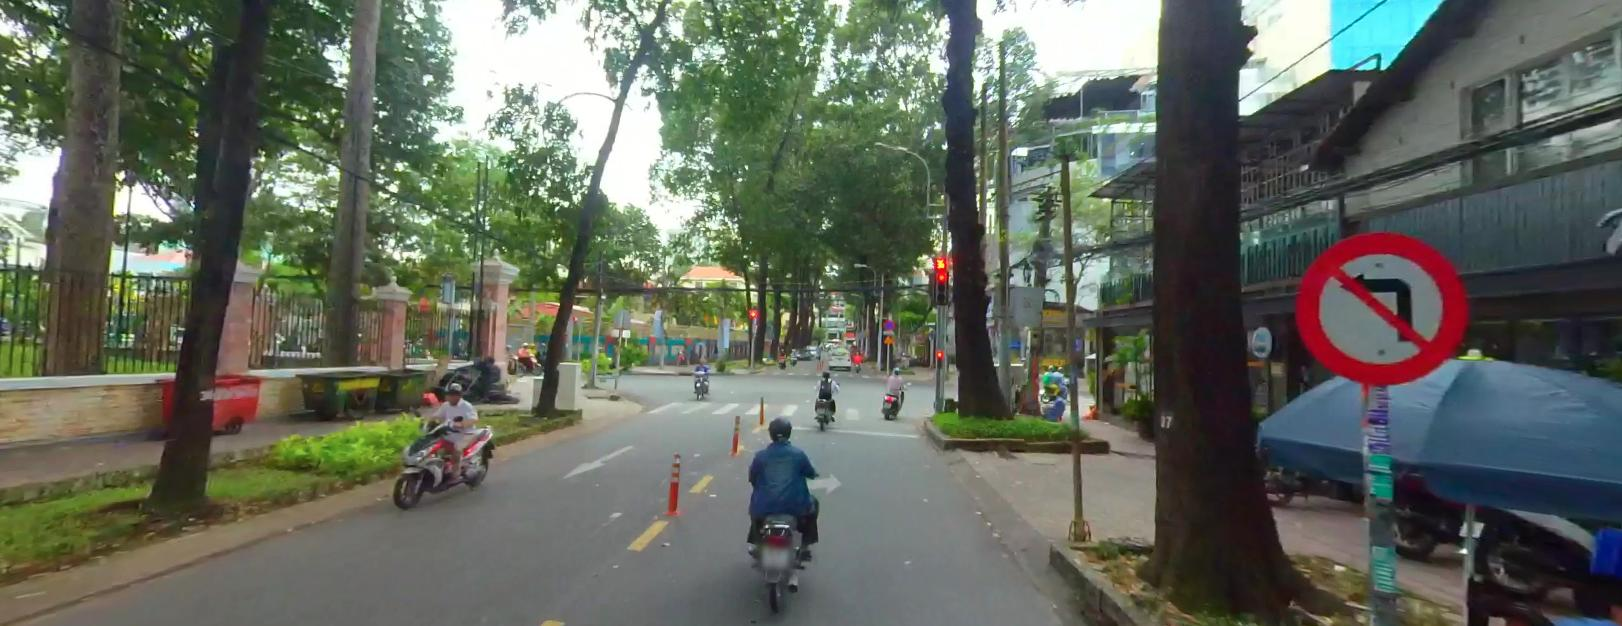Cam dung va do: (882, 318, 893, 328)
Cam re: (1297, 231, 1463, 378)
Nguy hiem: (883, 334, 893, 342)
